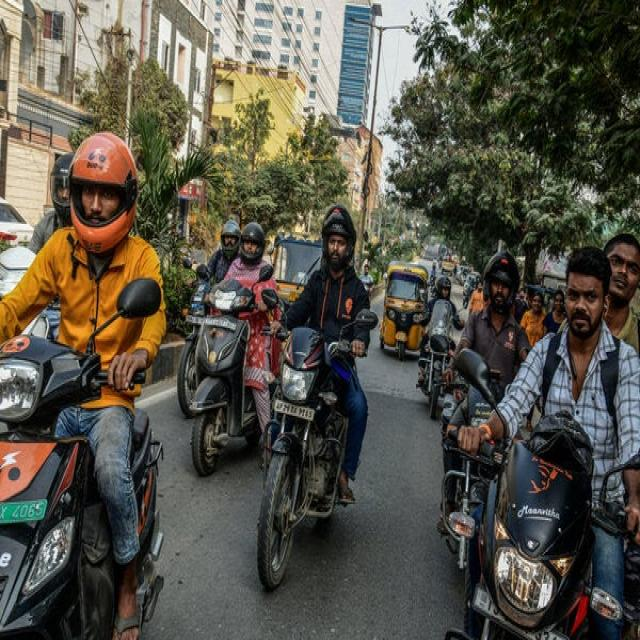autorickshaw: (380, 262, 428, 360)
motorcycle: (0, 133, 166, 640), (258, 204, 378, 590), (190, 223, 279, 475)
